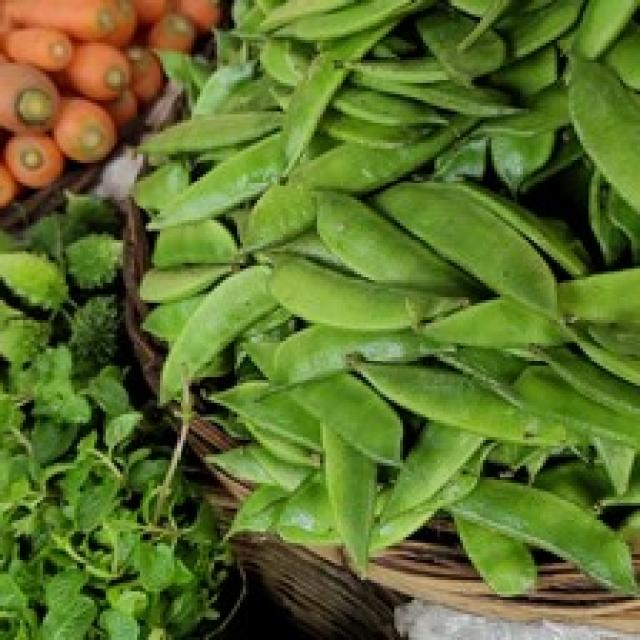Bean: (131, 0, 637, 594)
